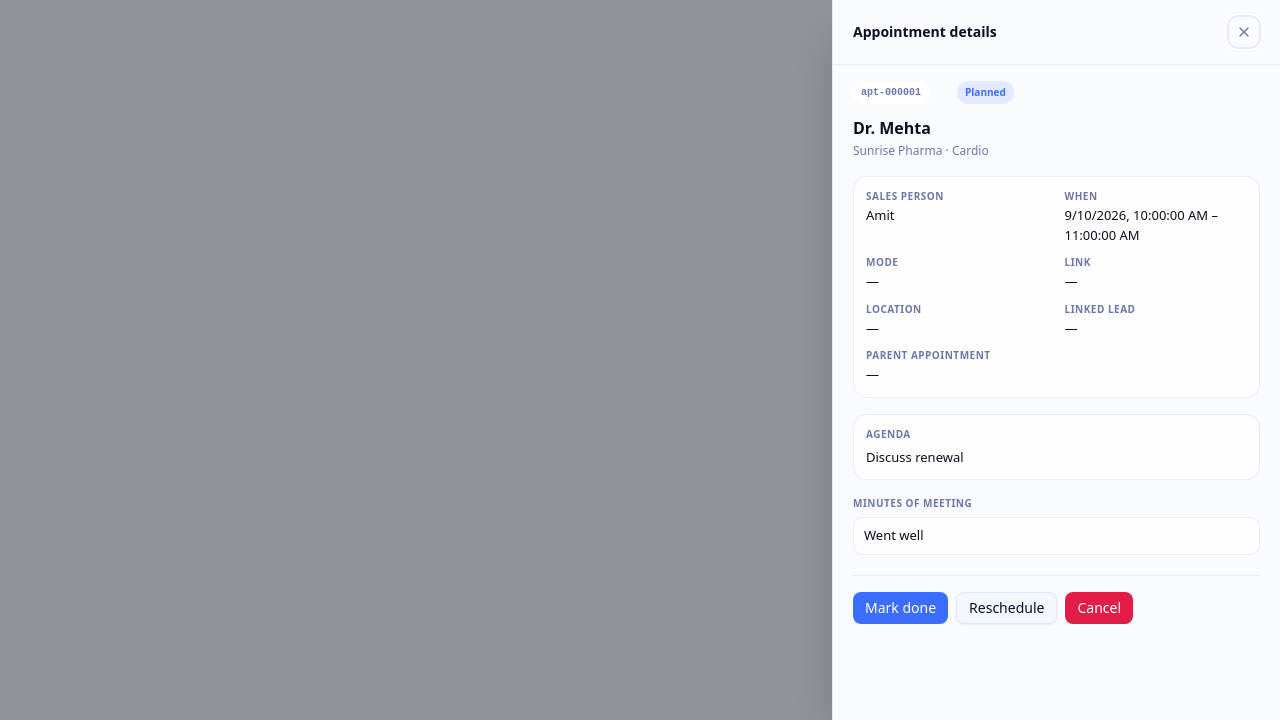
Test: AppointmentDrawer — "+ New lead" is gated on lead:manage/tenant:manage › shows the Mark-done dialog's "+ New lead" when the viewer holds lead:manage
Click the button "Mark done". click: coordinates (901, 608)
box: [853,592,948,624]
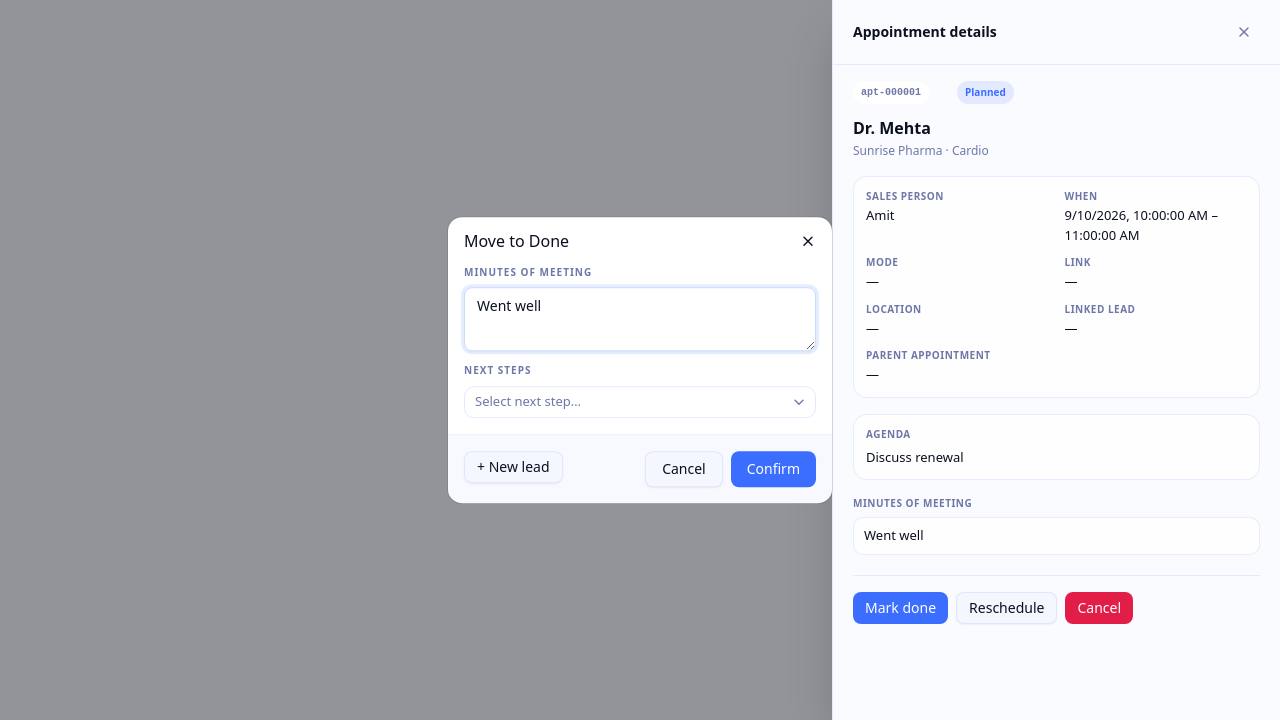
Result: the heading "Move to Done" is shown at [464,230,569,252]
Result: the button "+ New lead" is shown at [464,451,562,483]
